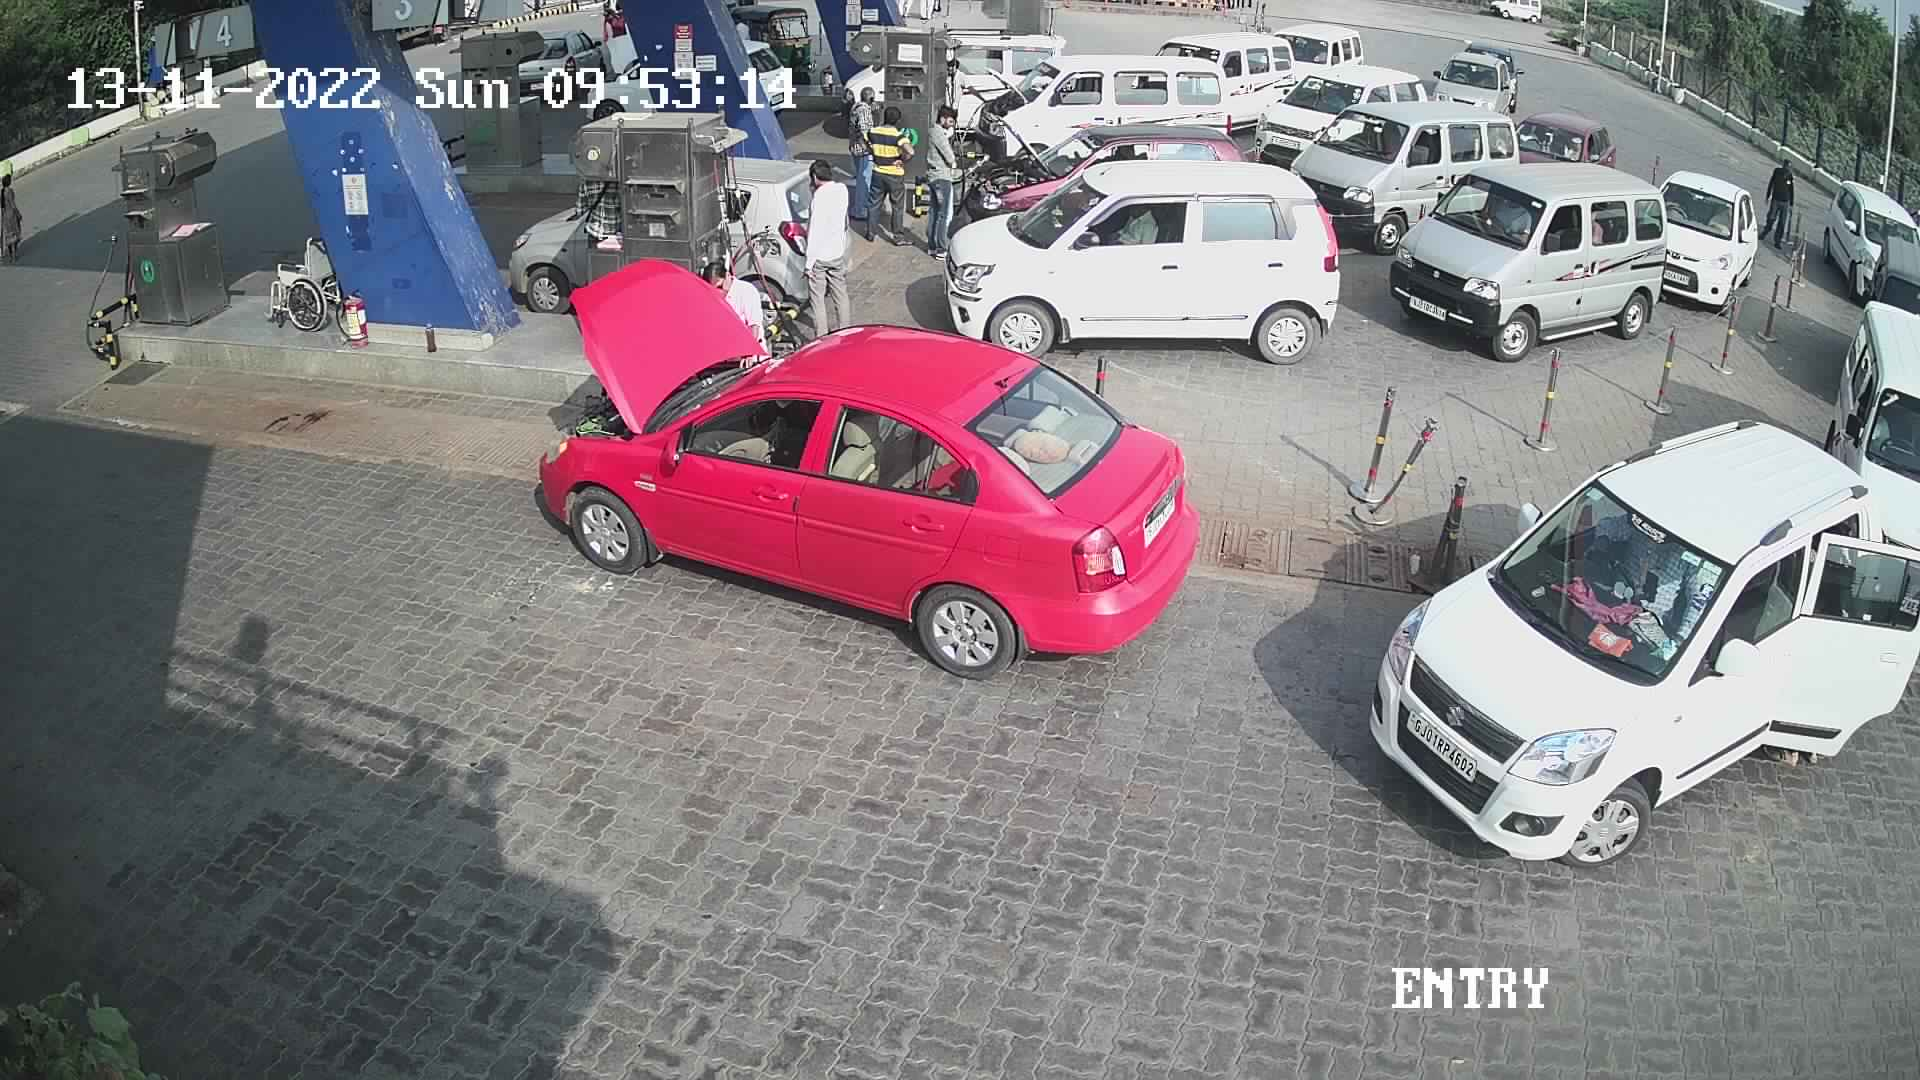Auto: (720, 0, 818, 92)
Car: (525, 252, 1200, 692), (1352, 411, 1915, 884), (934, 149, 1346, 371), (1382, 153, 1669, 367), (1278, 95, 1527, 260), (960, 99, 1257, 225), (968, 47, 1233, 179), (1815, 293, 1913, 626), (700, 146, 833, 349), (1247, 59, 1433, 175), (931, 22, 1068, 173), (1145, 24, 1299, 142), (1648, 165, 1763, 323), (1815, 167, 1915, 302), (1503, 105, 1627, 182), (506, 18, 612, 107), (1262, 12, 1367, 92), (1422, 46, 1518, 125), (723, 36, 796, 135), (1855, 227, 1917, 328), (1456, 34, 1524, 117)
